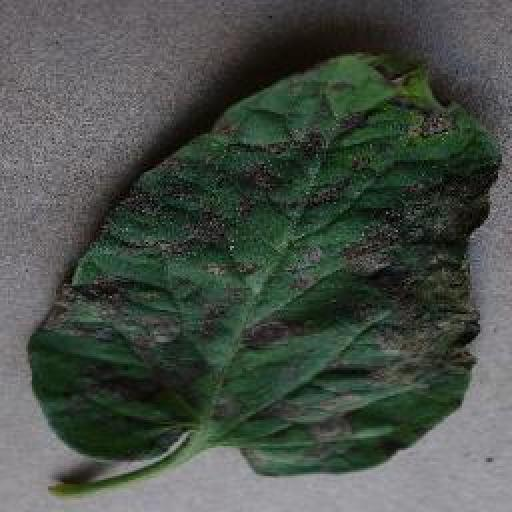Early Blight: (28, 52, 503, 479)
